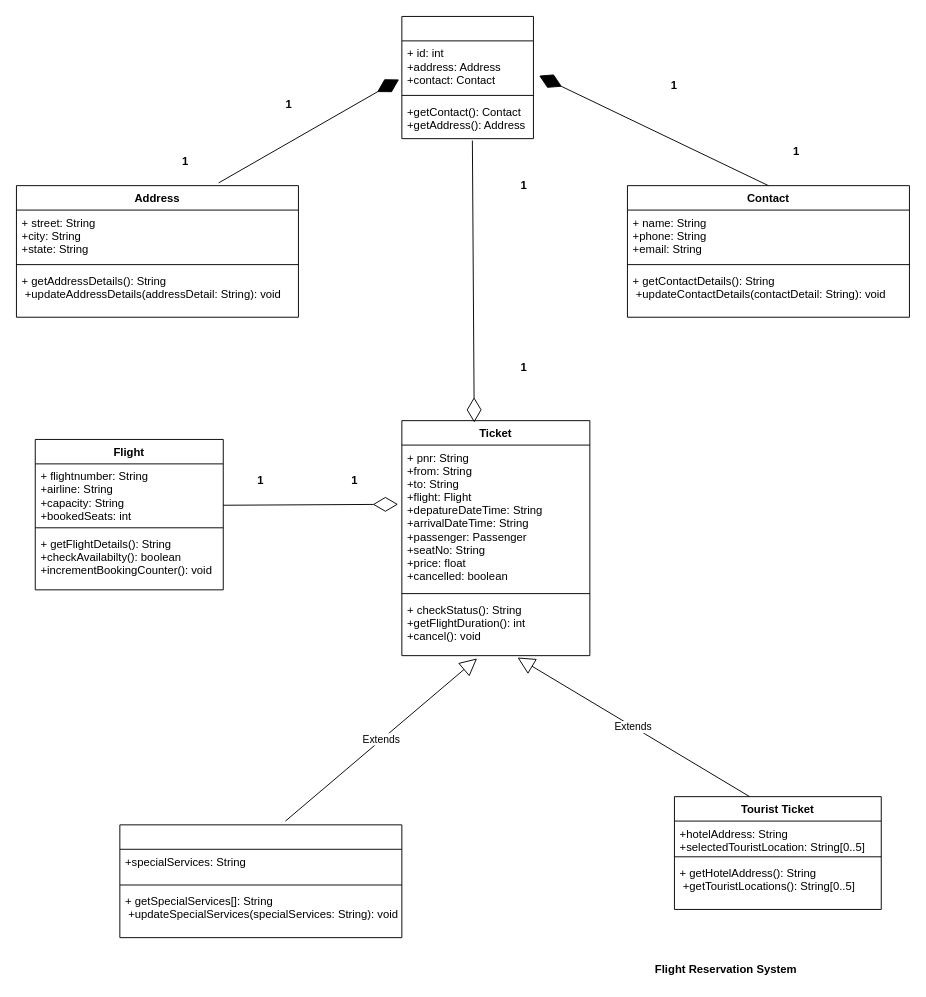
This 926x997 diagram has some shape labels left out. The shapes that lost their labels are listed below. From the top down, each one's box as (x1, y1, x2, y2) in pixels, then its label:
(401, 16, 533, 139): Passenger
(119, 824, 402, 938): Regular Ticket
